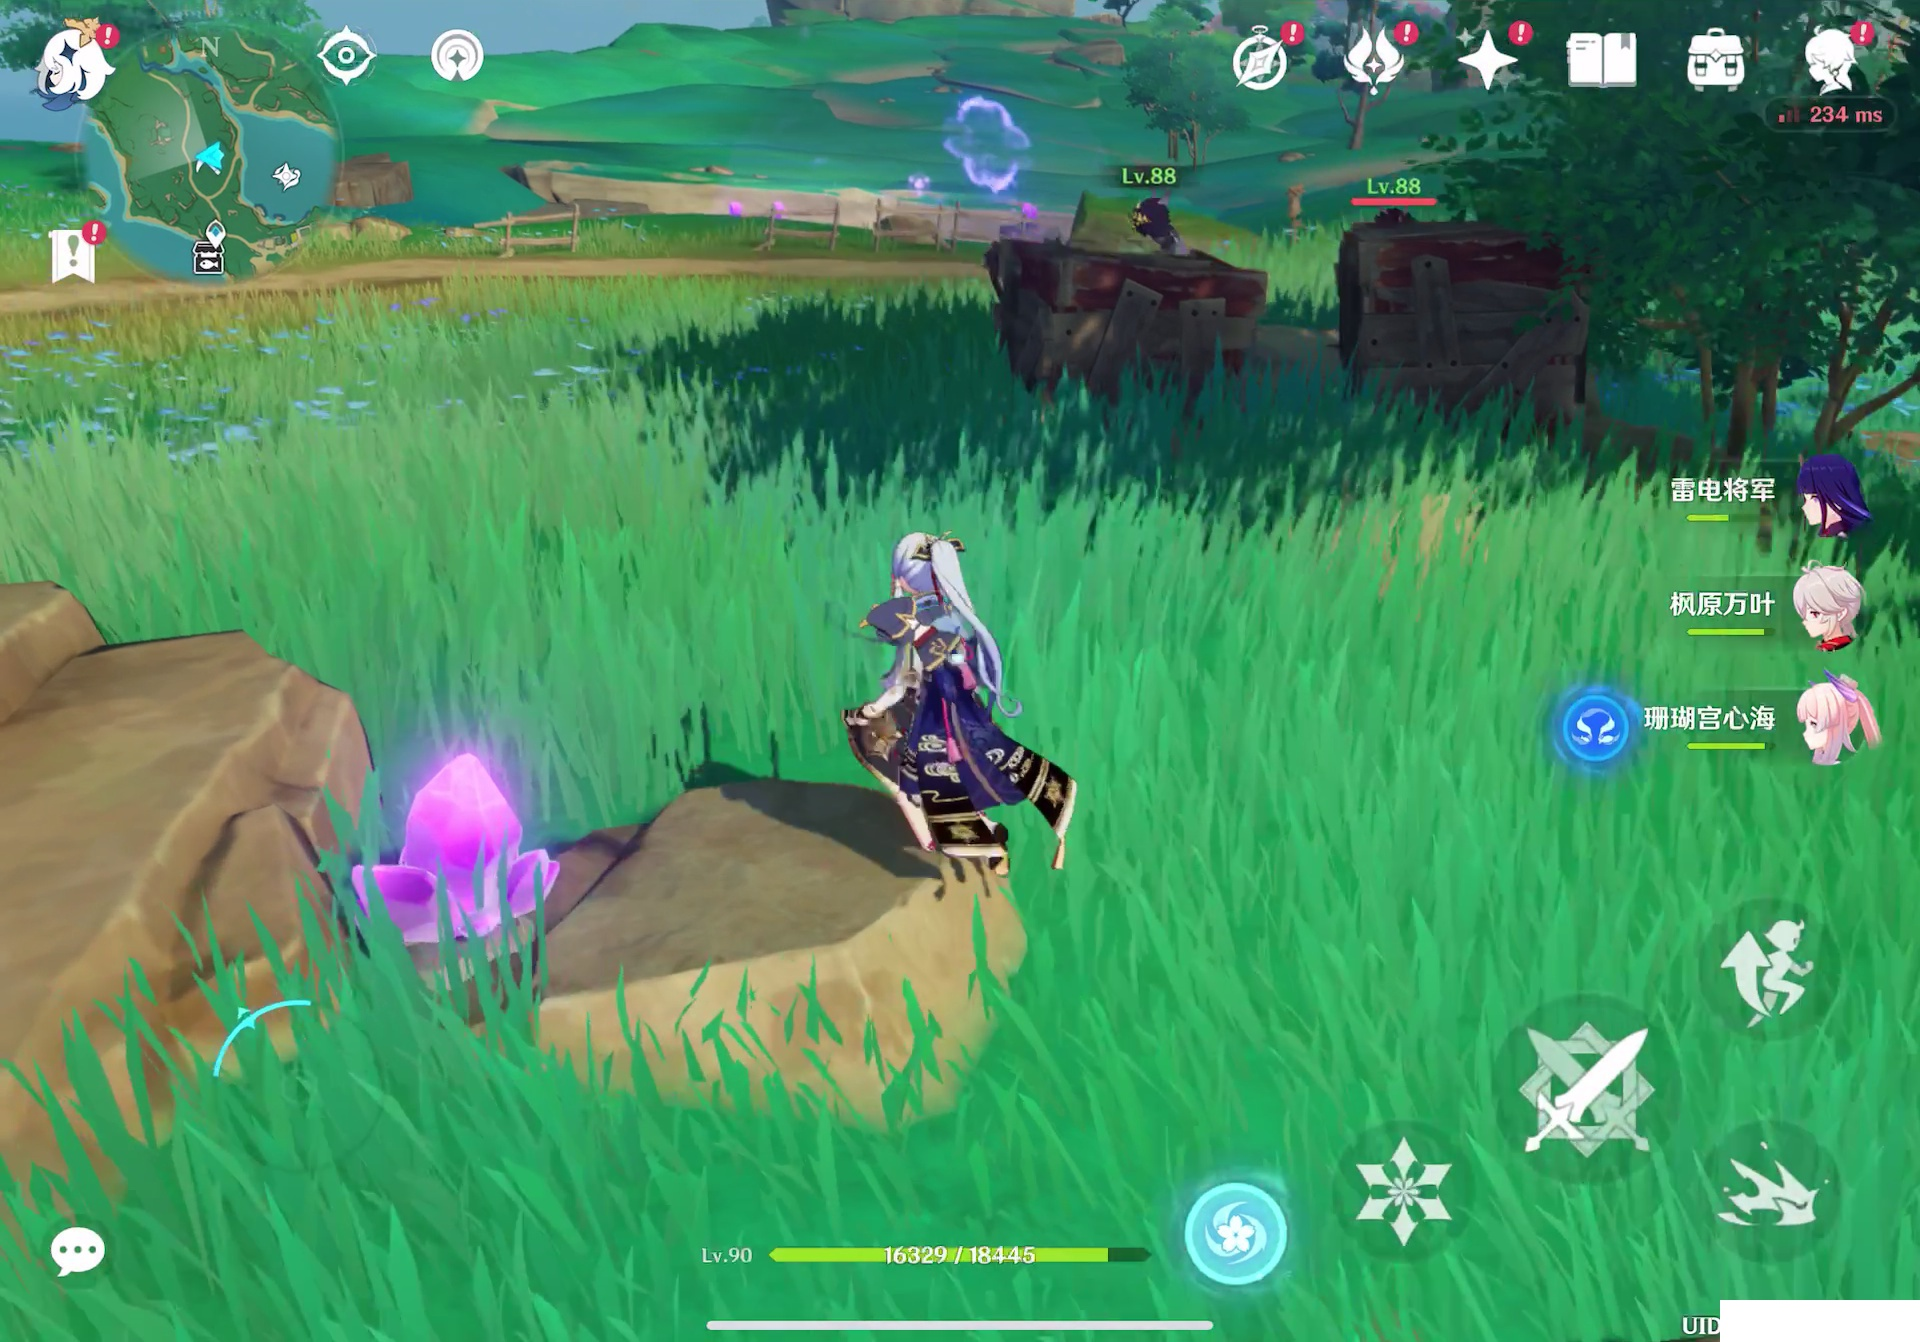丘丘人: (1128, 190, 1196, 251)
神里绫龟: (842, 505, 1077, 891)
紫矿石: (349, 737, 549, 941)
